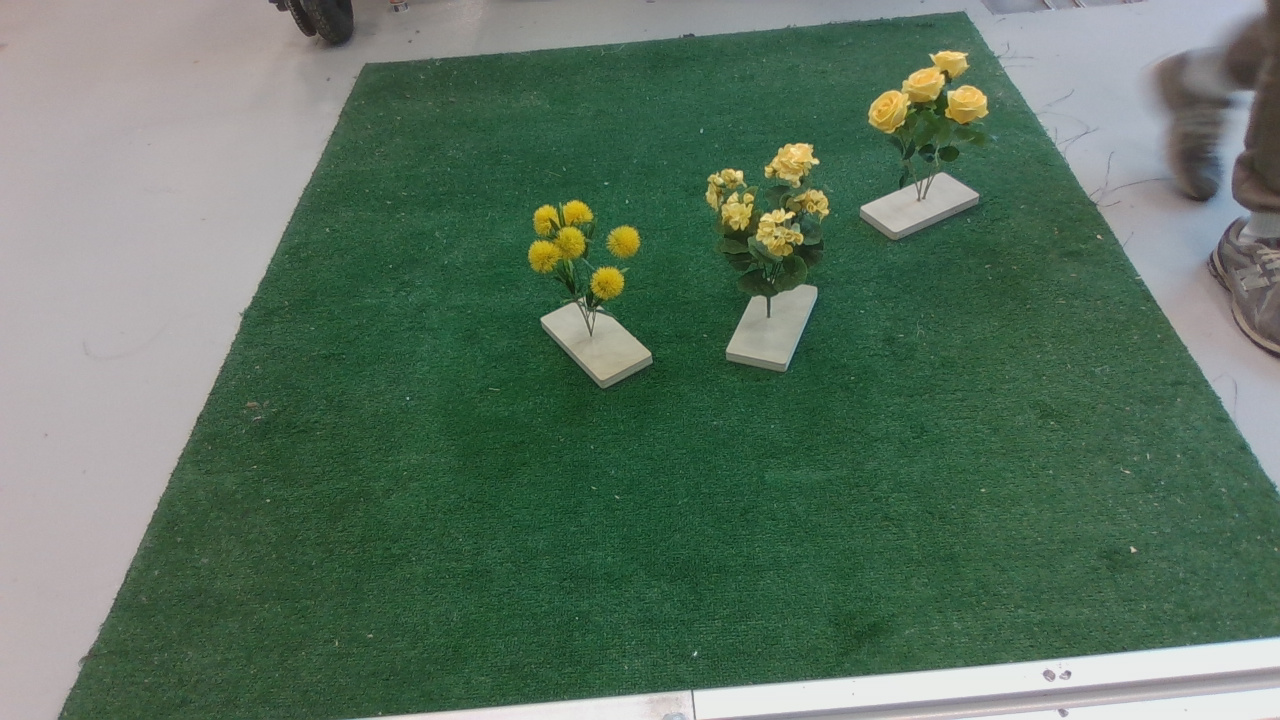dandelion: (519, 195, 647, 315)
geranium: (704, 141, 843, 313)
rose: (867, 43, 1002, 188)
